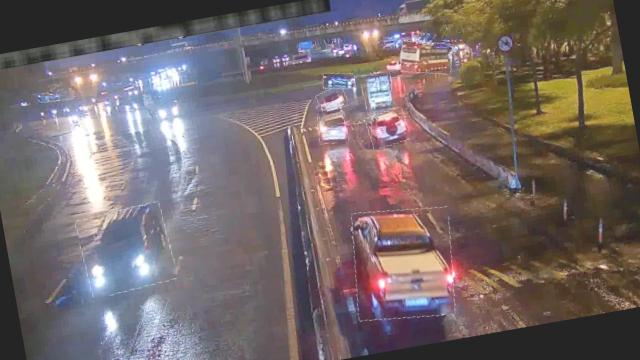Bus: (398, 35, 456, 80)
Car: (344, 198, 463, 326), (75, 202, 177, 298), (366, 107, 410, 148), (316, 112, 351, 146), (316, 85, 348, 114), (316, 100, 344, 128), (322, 70, 356, 92)
Truck: (361, 70, 396, 113)
